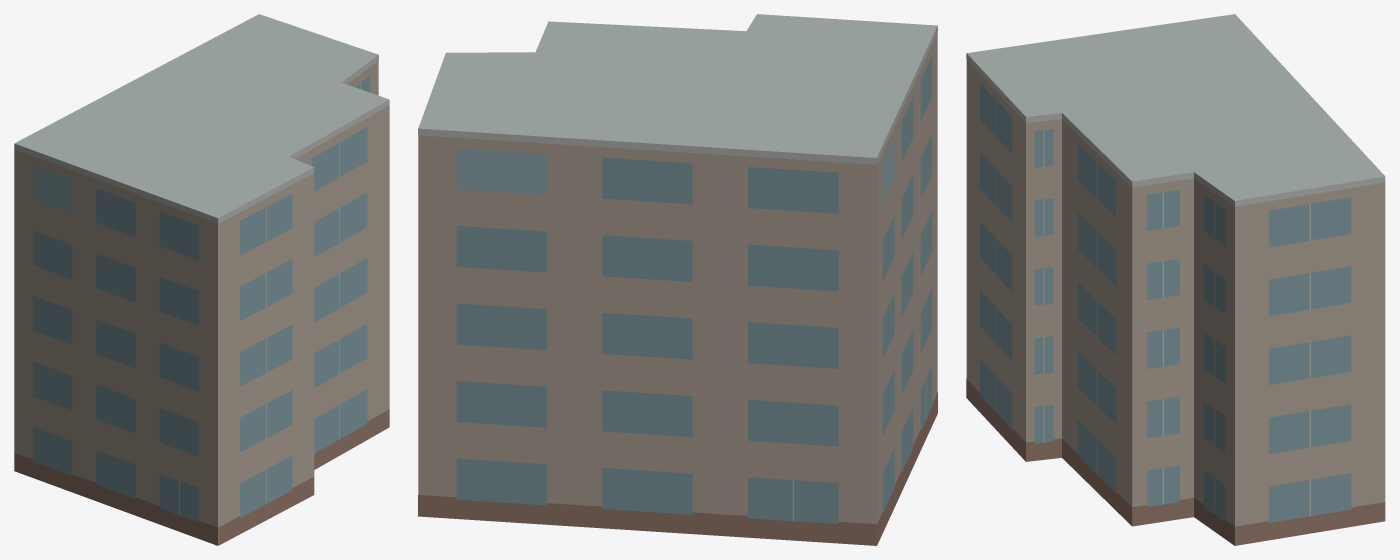
The model's file is survey-upis-32993395.glb.
The picture shows the model from 3 angles, left to right: view 1: azimuth 30°, elevation 25°; view 2: azimuth 150°, elevation 25°; view 3: azimuth 270°, elevation 25°; orthographic projection. The views are drawn at different scales.
Visible parts, largest first — view 1: survey-upis-32993395.tmp; view 2: survey-upis-32993395.tmp; view 3: survey-upis-32993395.tmp.
Boxes of the visible parts, x1,y1,x2,y2 form: survey-upis-32993395.tmp: (14,14,389,545); survey-upis-32993395.tmp: (418,14,937,545); survey-upis-32993395.tmp: (966,14,1385,545).
Size of the model in its own units: 16.18 by 13.9 by 15.31.
